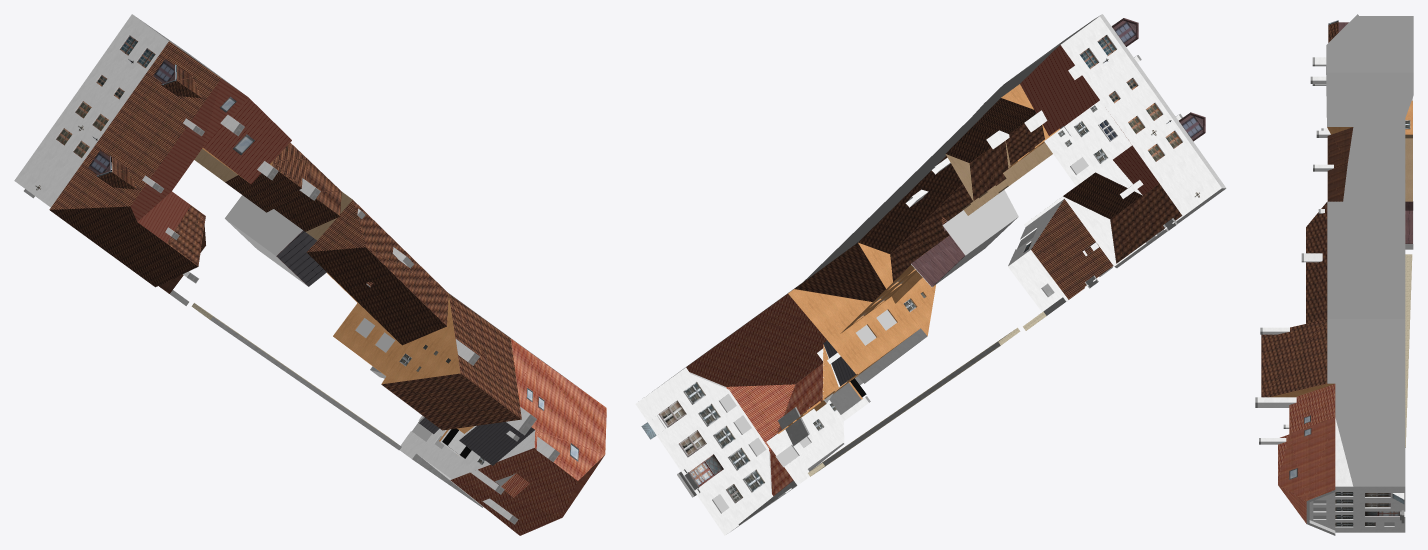
Rendered from Lai_33.obj.
3 renders of one model, left to right at view 1: azimuth 30°, elevation 25°; view 2: azimuth 150°, elevation 25°; view 3: azimuth 270°, elevation 25°, orthographic. The views are drawn at different scales.
Parts seen in each view (by area): view 1: Lai_33; view 2: Lai_33; view 3: Lai_33.
Boxes of the visible parts, x1,y1,x2,y2 form: Lai_33: (14, 14, 606, 535); Lai_33: (635, 14, 1226, 535); Lai_33: (1255, 14, 1413, 535).
Size of the model in its own units: 56.1 by 55.91 by 19.81.
